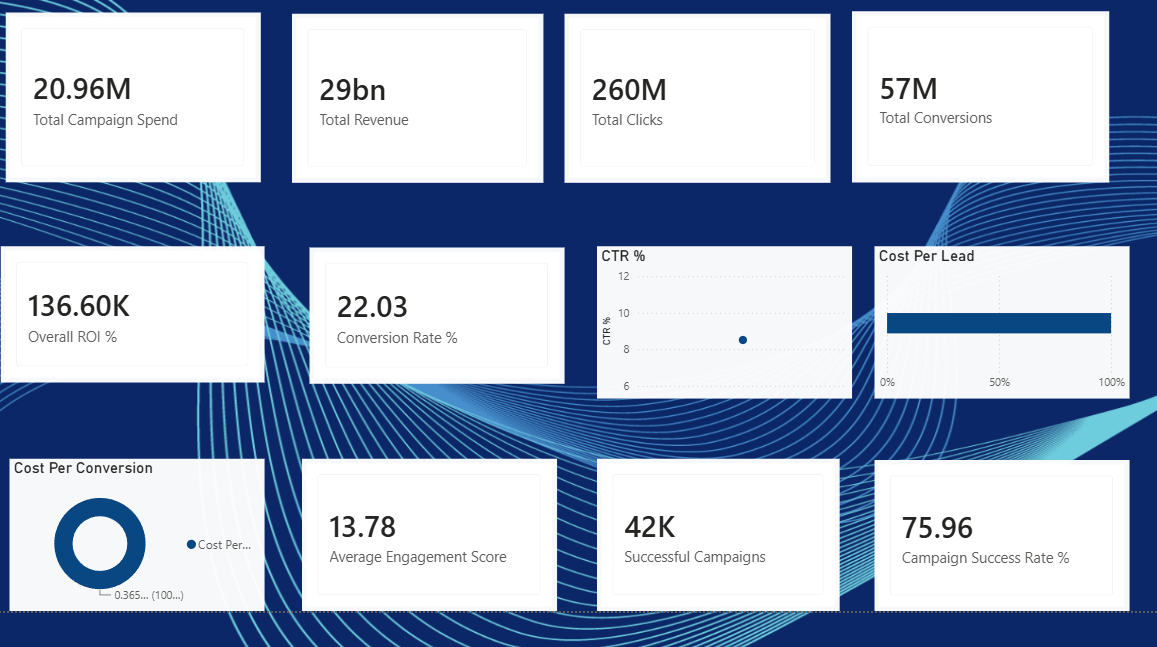

Layout of this report page (visuals, bound fields, positions):
{"tool":"powerbi","page":{"name":"Executive overview","canvas":[1280,720],"ordinal":0},"visuals":[{"type":"cardVisual","fields":{"Data":["nykaa_campaign_data.Total Campaign Spend"]},"box":[9.6,63.1,279.9,186.6],"z":0},{"type":"cardVisual","fields":{"Data":["nykaa_campaign_data.Total Revenue"]},"box":[323.8,64.5,275.8,185.2],"z":1000},{"type":"cardVisual","fields":{"Data":["nykaa_campaign_data.Total Clicks"]},"box":[623,64.5,292.3,185.2],"z":2000},{"type":"cardVisual","fields":{"Data":["nykaa_campaign_data.Total Conversions"]},"box":[938.6,61.7,282.7,188],"z":3000},{"type":"cardVisual","fields":{"Data":["nykaa_campaign_data.Overall ROI %"]},"box":[4.1,319.7,289.5,149.6],"z":4000},{"type":"cardVisual","fields":{"Data":["nykaa_campaign_data.Conversion Rate %"]},"box":[343.1,321.1,279.9,149.6],"z":5000},{"type":"lineChart","fields":{"Y":["nykaa_campaign_data.CTR %"]},"box":[658.7,319.7,279.9,167.4],"z":6000},{"type":"hundredPercentStackedBarChart","fields":{"Y":["nykaa_campaign_data.Cost Per Lead"]},"box":[963.3,319.7,279.9,167.4],"z":7000},{"type":"donutChart","fields":{"Y":["nykaa_campaign_data.Cost Per Conversion"]},"box":[13.7,553,279.9,167.4],"z":8000},{"type":"cardVisual","fields":{"Data":["nykaa_campaign_data.Average Engagement Score"]},"box":[334.8,553,279.9,167.4],"z":9000},{"type":"cardVisual","fields":{"Data":["nykaa_campaign_data.Successful Campaigns"]},"box":[658.7,553,266.2,167.4],"z":10000},{"type":"cardVisual","fields":{"Data":["nykaa_campaign_data.Campaign Success Rate %"]},"box":[963.3,554.4,279.9,166],"z":11000}]}

Visuals, with their boxes in screenshot pixels (x1, y1, x2, y2), scaled from the page's 1280x720 canvas onto the 1157x647 screenshot:
cardVisual - nykaa_campaign_data.Total Campaign Spend: locate(9, 57, 262, 224)
cardVisual - nykaa_campaign_data.Total Revenue: locate(293, 58, 542, 224)
cardVisual - nykaa_campaign_data.Total Clicks: locate(563, 58, 827, 224)
cardVisual - nykaa_campaign_data.Total Conversions: locate(848, 55, 1104, 224)
cardVisual - nykaa_campaign_data.Overall ROI %: locate(4, 287, 265, 422)
cardVisual - nykaa_campaign_data.Conversion Rate %: locate(310, 289, 563, 423)
lineChart - nykaa_campaign_data.CTR %: locate(595, 287, 848, 438)
hundredPercentStackedBarChart - nykaa_campaign_data.Cost Per Lead: locate(871, 287, 1124, 438)
donutChart - nykaa_campaign_data.Cost Per Conversion: locate(12, 497, 265, 646)
cardVisual - nykaa_campaign_data.Average Engagement Score: locate(303, 497, 556, 646)
cardVisual - nykaa_campaign_data.Successful Campaigns: locate(595, 497, 836, 646)
cardVisual - nykaa_campaign_data.Campaign Success Rate %: locate(871, 498, 1124, 646)
